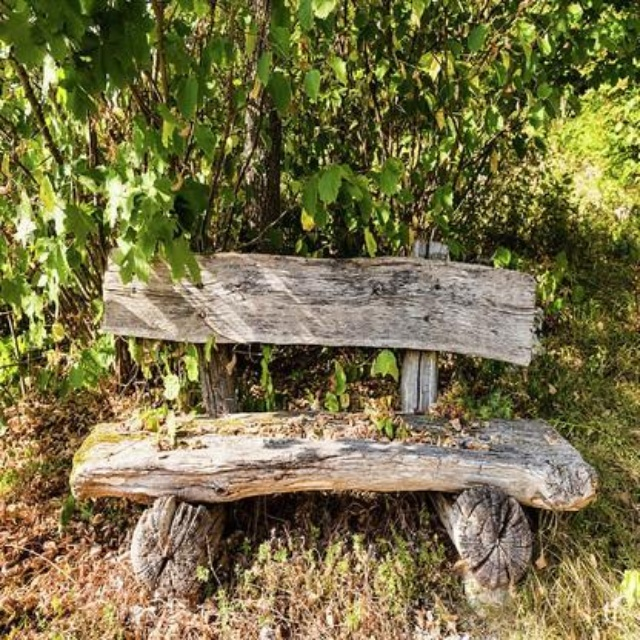obstacle: (55, 231, 600, 615)
